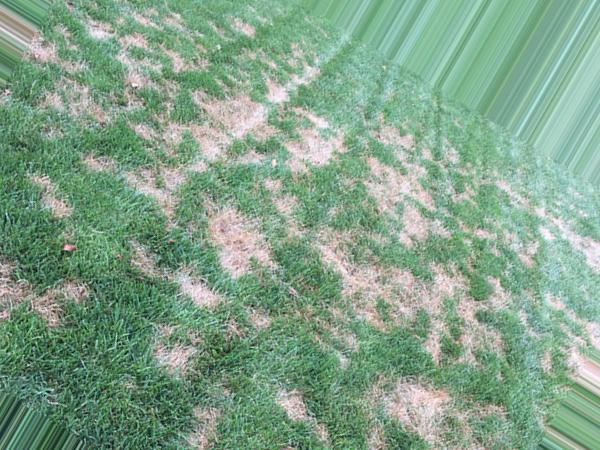patch: (224, 211, 254, 261), (398, 387, 435, 425), (397, 272, 427, 312), (379, 162, 407, 202), (227, 104, 264, 132), (144, 181, 180, 207), (204, 129, 225, 151), (410, 212, 428, 235), (348, 267, 366, 285), (317, 236, 330, 254), (310, 141, 321, 161), (194, 285, 204, 304), (438, 281, 457, 291)
